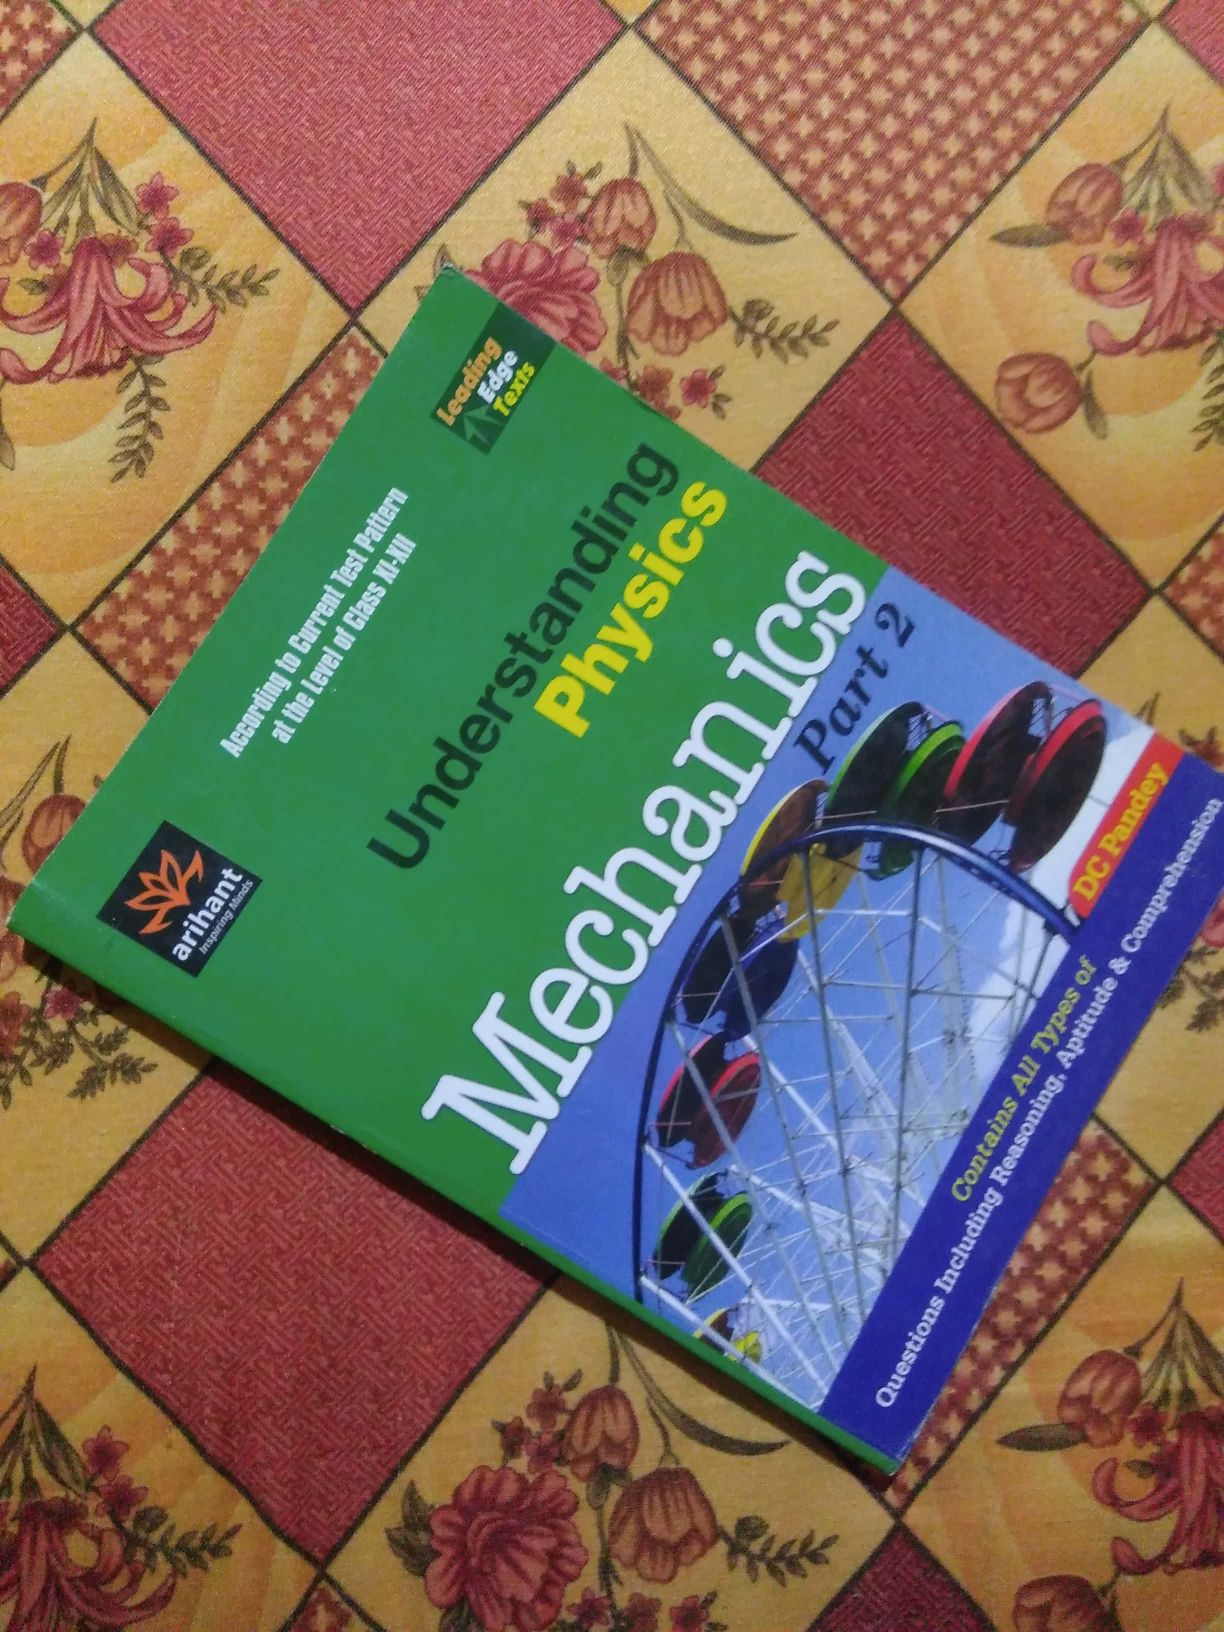mechanics: (26, 298, 1215, 1489)
